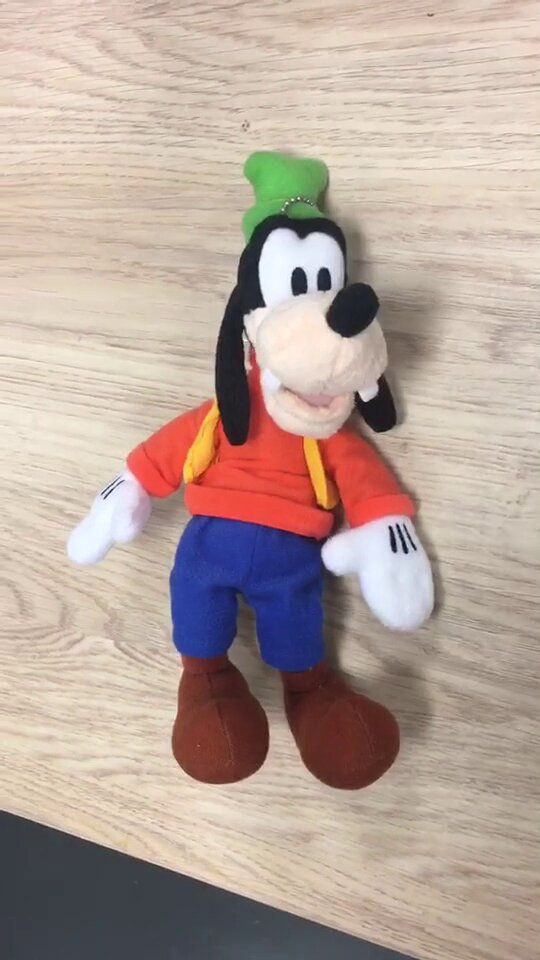goofy: (64, 148, 439, 794)
